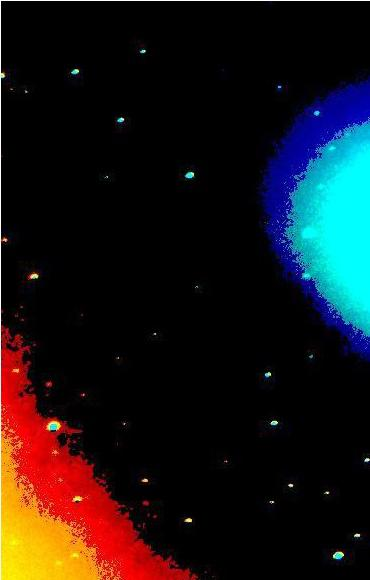star: (34, 299, 64, 329)
